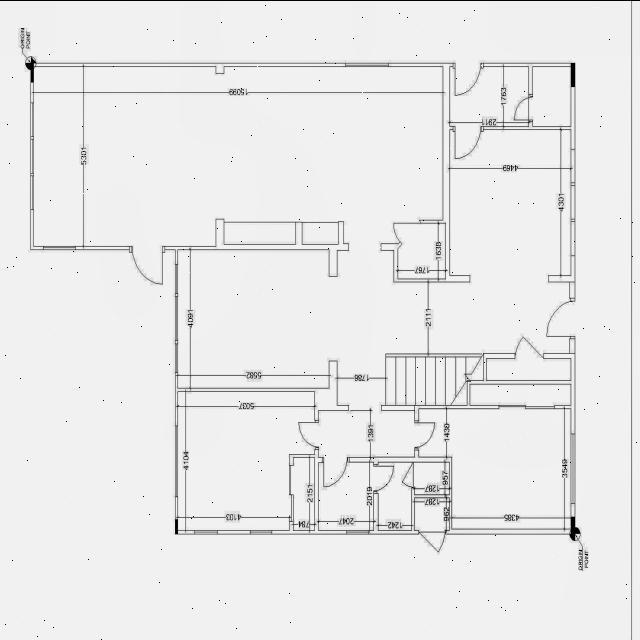Column: (571, 62, 575, 86), (30, 62, 34, 82), (571, 516, 575, 534), (175, 518, 178, 534)
Door: (129, 245, 165, 284), (546, 296, 576, 338), (453, 61, 483, 95), (453, 125, 483, 158), (388, 219, 422, 245), (322, 456, 349, 486), (418, 529, 446, 552), (374, 461, 394, 493), (515, 336, 544, 358), (298, 419, 319, 449), (415, 420, 435, 450), (513, 93, 533, 121), (400, 461, 414, 487)
Sliding Door: (289, 464, 293, 520), (498, 404, 554, 408)
Staircase: (381, 353, 483, 404)
Window: (571, 432, 575, 502), (175, 424, 178, 496), (345, 62, 389, 66), (30, 174, 34, 208), (30, 138, 34, 172), (30, 102, 34, 136), (175, 296, 178, 340), (44, 245, 76, 249), (194, 530, 218, 534), (175, 342, 178, 372), (175, 263, 178, 293), (250, 530, 272, 534), (346, 530, 368, 534)
